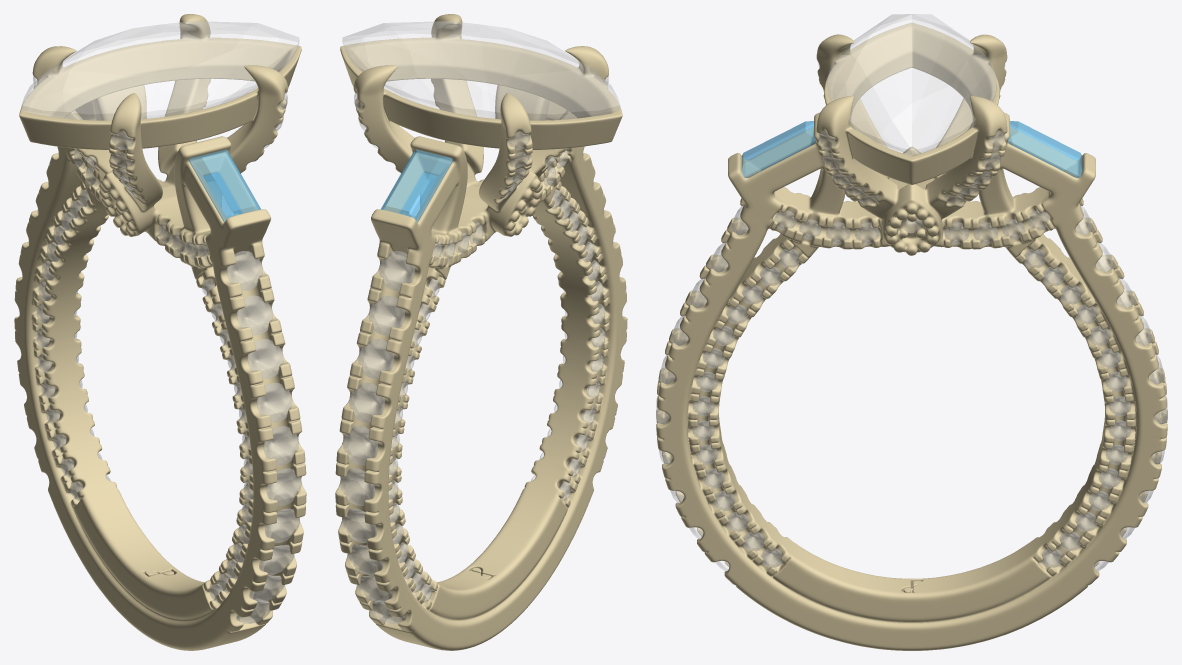
File: Ring-.glb
The picture shows the model from 3 angles, left to right: view 1: azimuth 30°, elevation 25°; view 2: azimuth 150°, elevation 25°; view 3: azimuth 270°, elevation 25°; orthographic projection.
Parts seen in each view (by area): view 1: Metal 01(31783A13-56B1-4E0D-9E29-613B48EEE7CF), Diamond_Marquise(8FB04CA0-F109-4111-9F70-E3C5B4492A56), Diamond_Round(FAB08196-BAFC-470A-8EE7-33E182F59F20) (×9), Diamond_Baguette Straight(2F9531C9-F355-4928-A028-19CF7B7886; view 2: Metal 01(31783A13-56B1-4E0D-9E29-613B48EEE7CF), Diamond_Marquise(8FB04CA0-F109-4111-9F70-E3C5B4492A56), Diamond_Round(FAB08196-BAFC-470A-8EE7-33E182F59F20) (×9), Diamond_Baguette Straight(2F9531C9-F355-4928-A028-19CF7B7886; view 3: Metal 01(31783A13-56B1-4E0D-9E29-613B48EEE7CF), Diamond_Marquise(8FB04CA0-F109-4111-9F70-E3C5B4492A56), Diamond_Baguette Straight(2F9531C9-F355-4928-A028-19CF7B7886 (×2).
Boxes of the visible parts, bbox=[...] form: Metal 01(31783A13-56B1-4E0D-9E29-613B48EEE7CF): bbox=[14, 14, 306, 650]; Diamond_Marquise(8FB04CA0-F109-4111-9F70-E3C5B4492A56): bbox=[21, 21, 298, 120]; Diamond_Round(FAB08196-BAFC-470A-8EE7-33E182F59F20) (×9): bbox=[227, 251, 301, 601]; Diamond_Baguette Straight(2F9531C9-F355-4928-A028-19CF7B7886: bbox=[189, 149, 261, 222]; Metal 01(31783A13-56B1-4E0D-9E29-613B48EEE7CF): bbox=[335, 14, 627, 650]; Diamond_Marquise(8FB04CA0-F109-4111-9F70-E3C5B4492A56): bbox=[342, 21, 619, 120]; Diamond_Round(FAB08196-BAFC-470A-8EE7-33E182F59F20) (×9): bbox=[340, 251, 414, 601]; Diamond_Baguette Straight(2F9531C9-F355-4928-A028-19CF7B7886: bbox=[380, 149, 452, 222]; Metal 01(31783A13-56B1-4E0D-9E29-613B48EEE7CF): bbox=[656, 22, 1167, 650]; Diamond_Marquise(8FB04CA0-F109-4111-9F70-E3C5B4492A56): bbox=[827, 14, 996, 155]; Diamond_Baguette Straight(2F9531C9-F355-4928-A028-19CF7B7886 (×2): bbox=[741, 121, 1082, 177].
Bounding box in the file's own units: 0.0147 × 0.0289 × 0.023.
